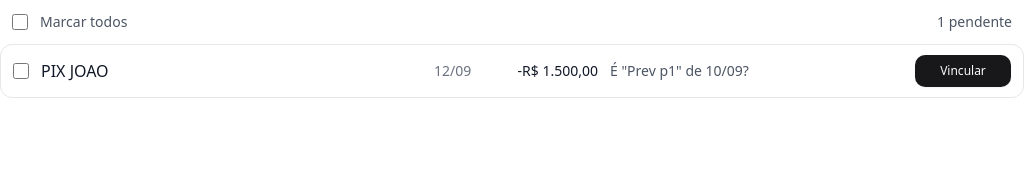
it: ListaConciliar — gravar › vinculou e o servidor não classificou: a linha volta pedindo a categoria
What coordinates should you click on to do the following:
click the button "Vincular"
I would click on:
 (963, 71)
Its box is [915,55,1011,87].
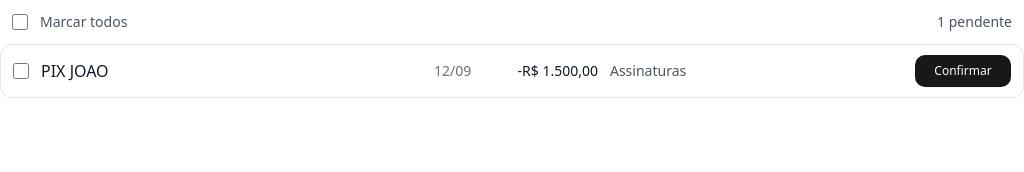
Expected: the button "PIX JOAO" is shown, [41,59,422,83]
Result: the button "Confirmar" is shown at [915,55,1011,87]
